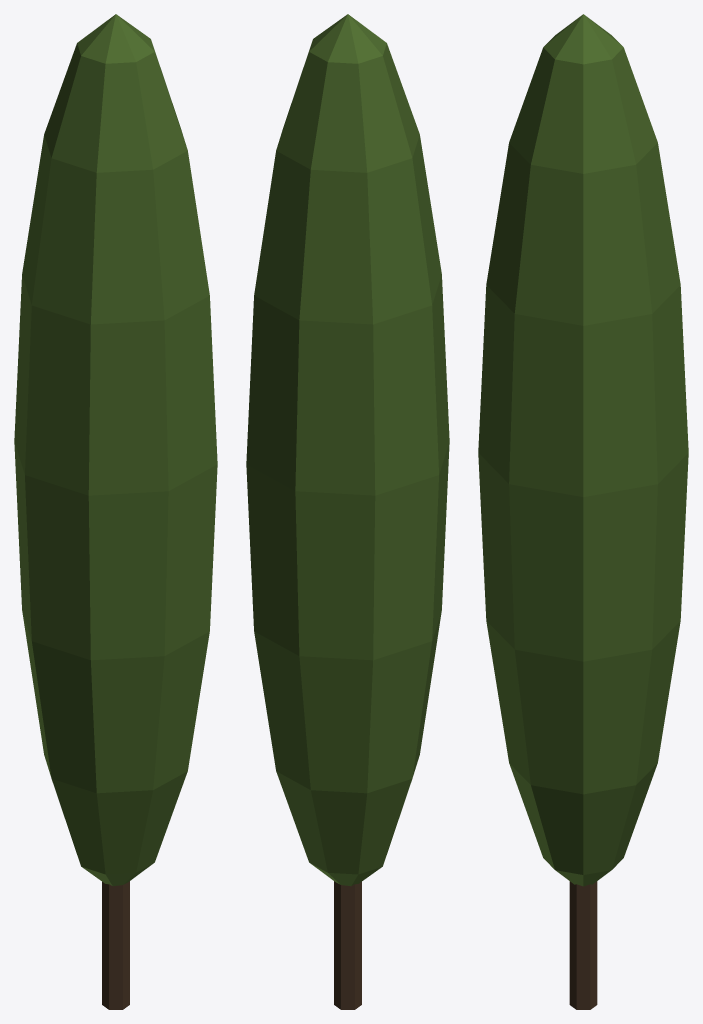
The model's file is arvore_choupo.glb.
The picture shows the model from 3 angles, left to right: view 1: azimuth 30°, elevation 25°; view 2: azimuth 150°, elevation 25°; view 3: azimuth 270°, elevation 25°; orthographic projection.
Parts seen in each view (by area): view 1: Arvore.001; view 2: Arvore.001; view 3: Arvore.001.
Boxes of the visible parts, box(x1,y1,x2,y2) form: Arvore.001: box(14, 14, 217, 1009); Arvore.001: box(246, 14, 449, 1009); Arvore.001: box(478, 14, 688, 1009).
Bounding box in the file's own units: 3.8 × 19.74 × 3.8.
